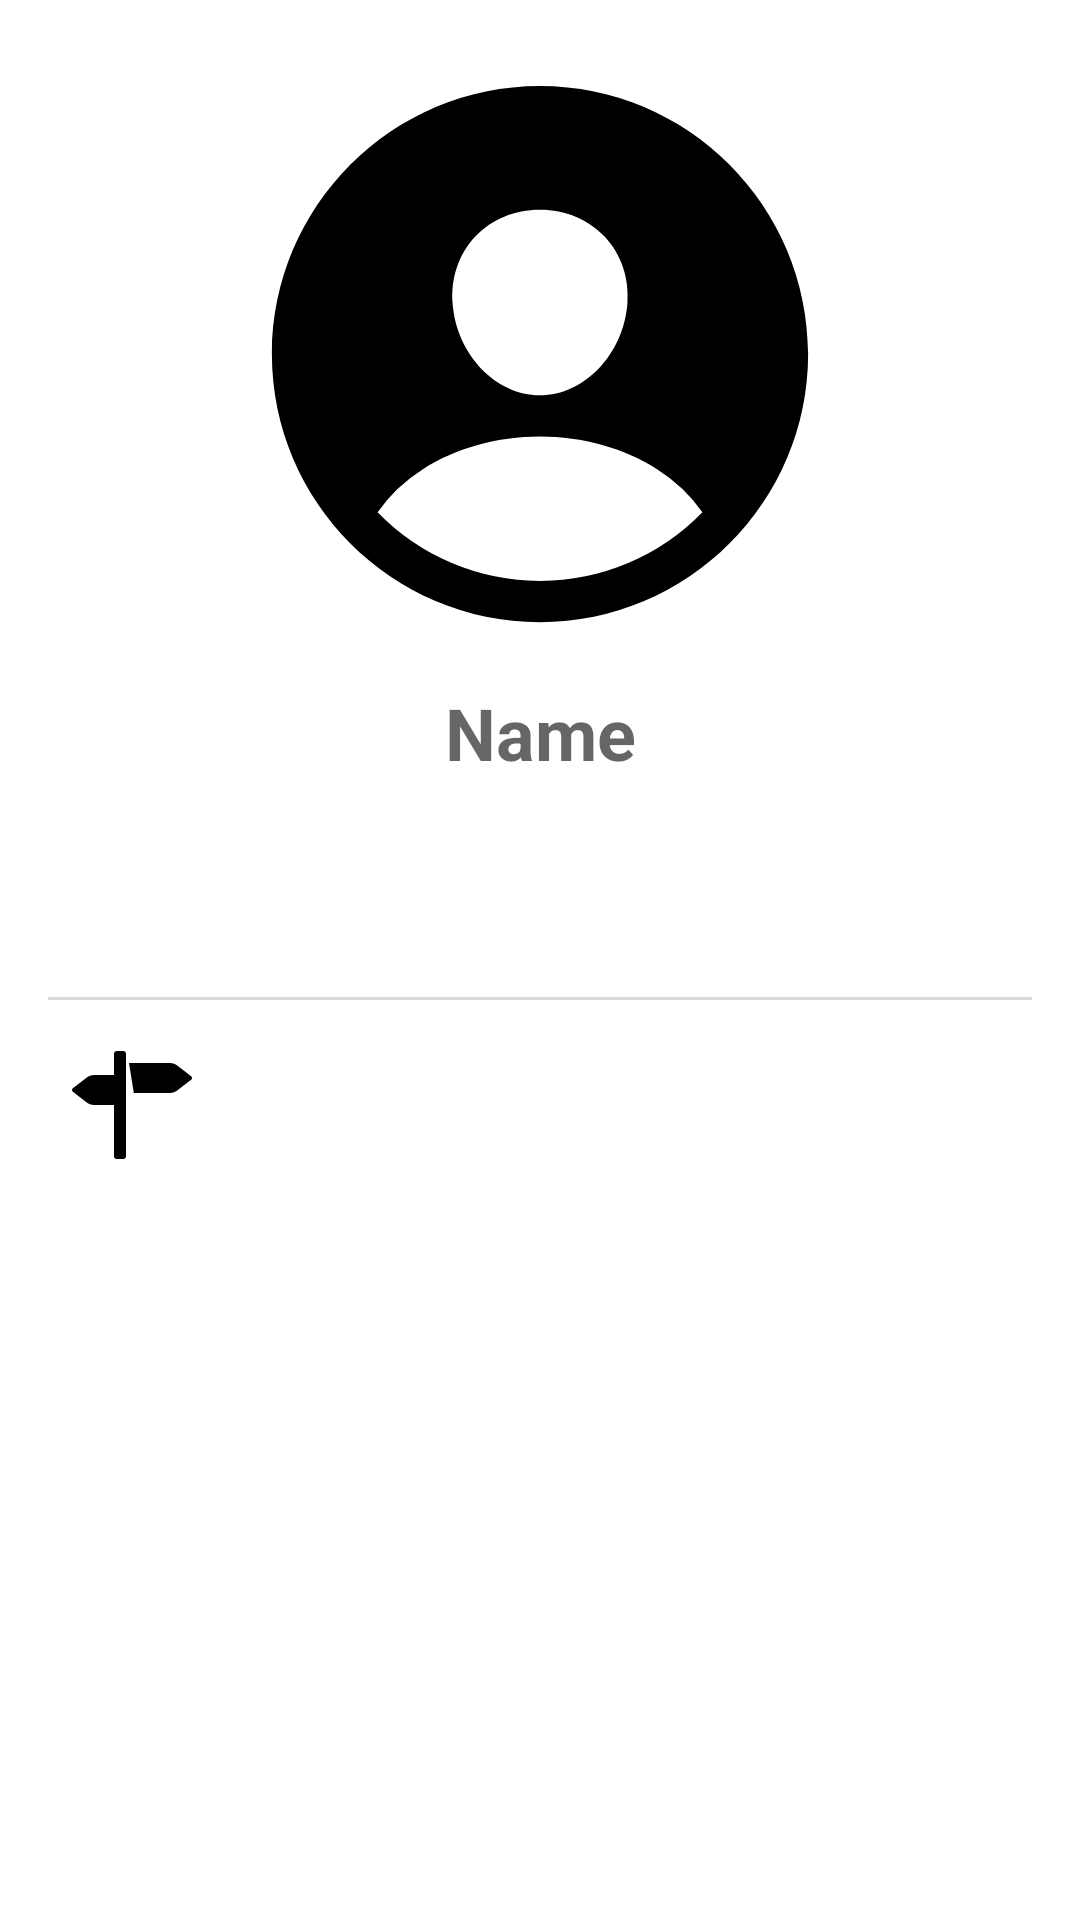

Screen size 1080w x 1920h. Icon name, then its center in pixels as [x,y]:
address: [132,1105]
